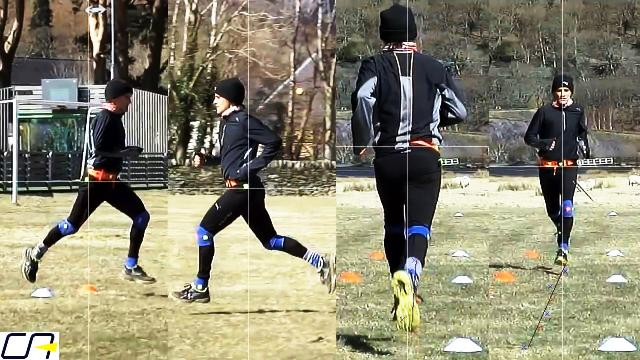berlari: (344, 2, 476, 342), (173, 76, 335, 314), (20, 76, 154, 296), (522, 71, 602, 270)
